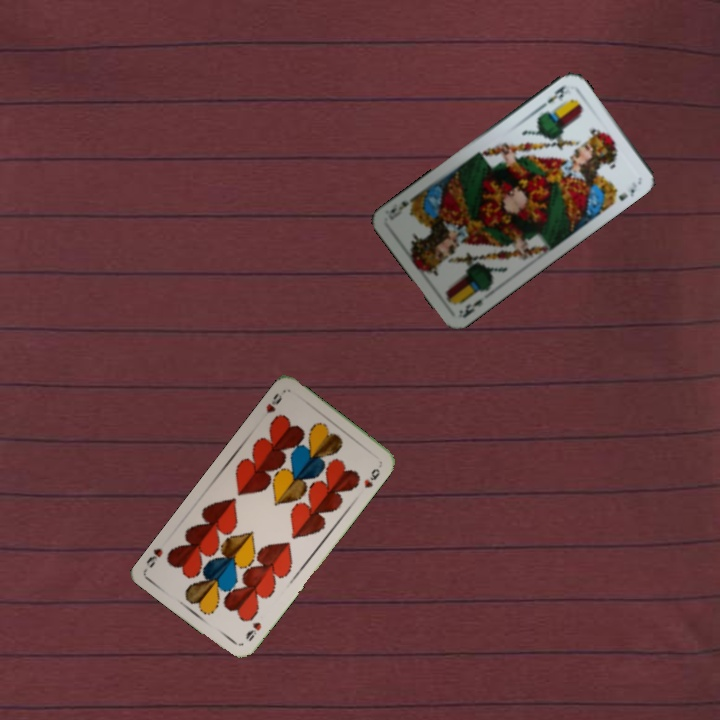EK: (536, 81, 567, 111), (459, 295, 485, 321)
H9: (262, 389, 285, 416), (241, 618, 264, 644)
